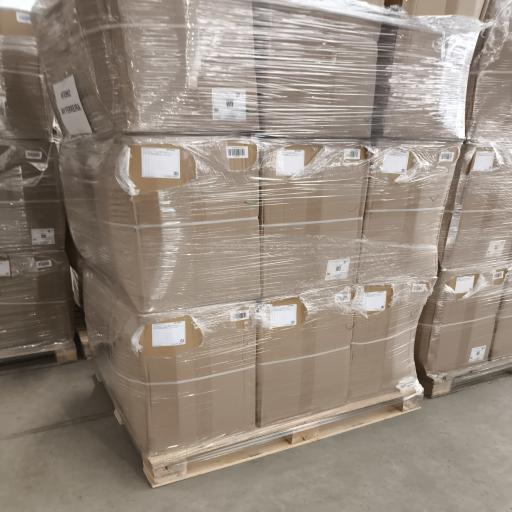pallet: (143, 391, 422, 487), (144, 393, 420, 487), (418, 361, 511, 398), (0, 345, 77, 375), (75, 306, 92, 359)
